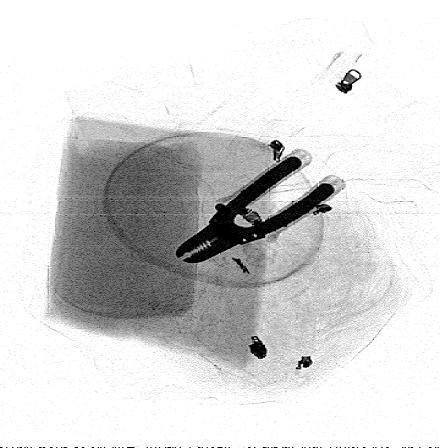Pliers: (174, 155, 337, 263)
